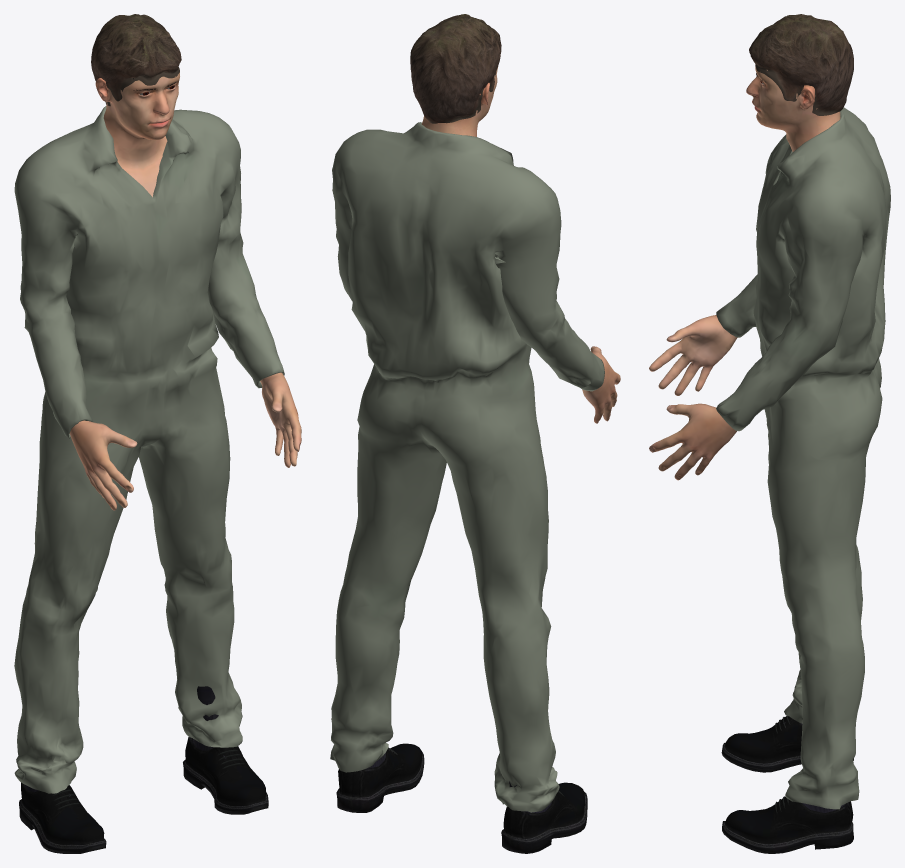
File: valensole-being-pv-1965-07-02.glb
The picture shows the model from 3 angles, left to right: view 1: azimuth 30°, elevation 25°; view 2: azimuth 150°, elevation 25°; view 3: azimuth 270°, elevation 25°; orthographic projection.
Parts seen in each view (by area): view 1: Human.male_coverall01.001, Human.001, Human.shoes03.001, Human.short02.001; view 2: Human.male_coverall01.001, Human.short02.001, Human.shoes03.001, Human.001; view 3: Human.male_coverall01.001, Human.001, Human.shoes03.001, Human.short02.001.
Boxes of the visible parts, left/top/right/bottom form: Human.male_coverall01.001: left=14, top=106, right=284, bottom=793; Human.001: left=69, top=72, right=301, bottom=510; Human.shoes03.001: left=19, top=686, right=268, bottom=853; Human.short02.001: left=91, top=14, right=181, bottom=106; Human.male_coverall01.001: left=330, top=122, right=604, bottom=812; Human.short02.001: left=410, top=14, right=501, bottom=123; Human.shoes03.001: left=336, top=743, right=587, bottom=853; Human.001: left=421, top=66, right=620, bottom=423; Human.male_coverall01.001: left=716, top=107, right=890, bottom=809; Human.001: left=649, top=64, right=840, bottom=480; Human.shoes03.001: left=721, top=716, right=853, bottom=853; Human.short02.001: left=749, top=14, right=853, bottom=115.
Size of the model in its own units: 0.2976 by 1 by 0.2805.
Materials: 6 (6 with a texture image).
